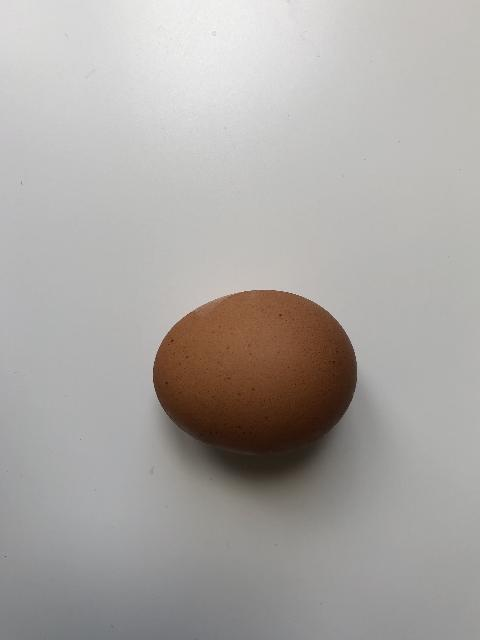Sano: (152, 288, 358, 457)
